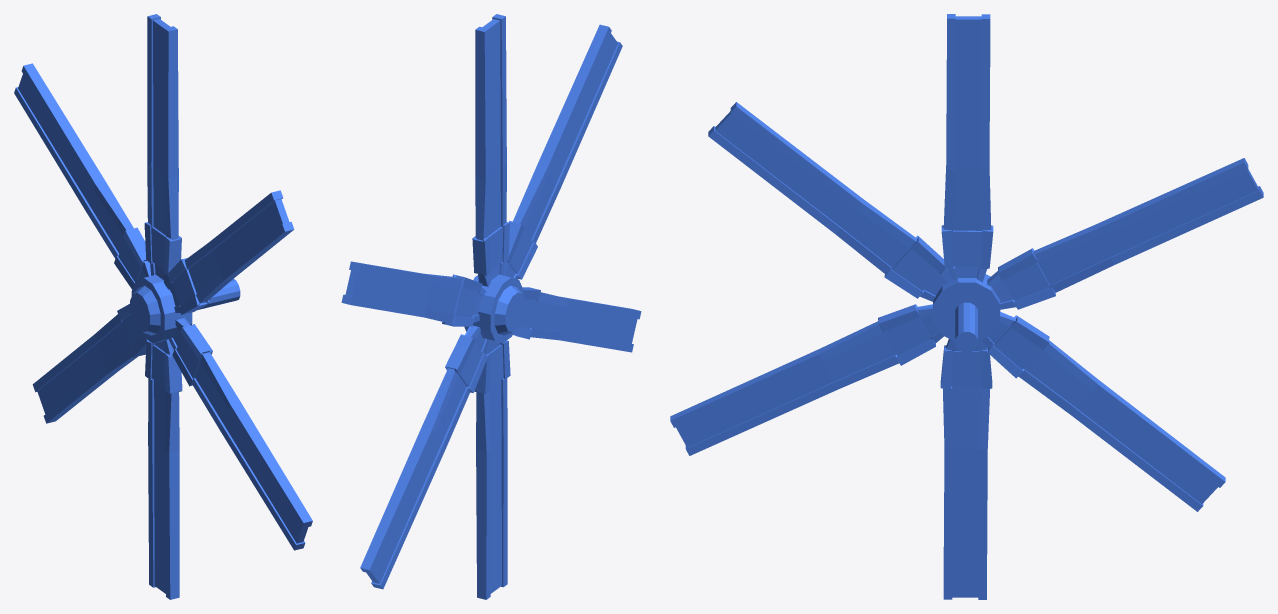
File: Mill_Detach_Variant2.fbx
3 renders of one model, left to right at view 1: azimuth 30°, elevation 25°; view 2: azimuth 150°, elevation 25°; view 3: azimuth 270°, elevation 25°, orthographic. The views are drawn at different scales.
Visible parts, largest first — view 1: Mill_Detach_Variant2; view 2: Mill_Detach_Variant2; view 3: Mill_Detach_Variant2.
Part boxes in pixels (left/top/right/bottom): Mill_Detach_Variant2: left=14, top=14, right=312, bottom=599; Mill_Detach_Variant2: left=341, top=14, right=641, bottom=599; Mill_Detach_Variant2: left=670, top=14, right=1263, bottom=599.
Size of the model in its own units: 71.65 by 410 by 379.
